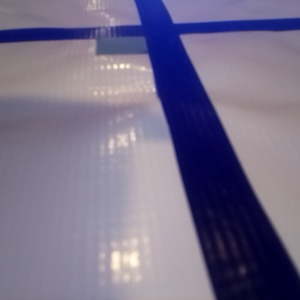bottom_right: (119, 67, 233, 117)
